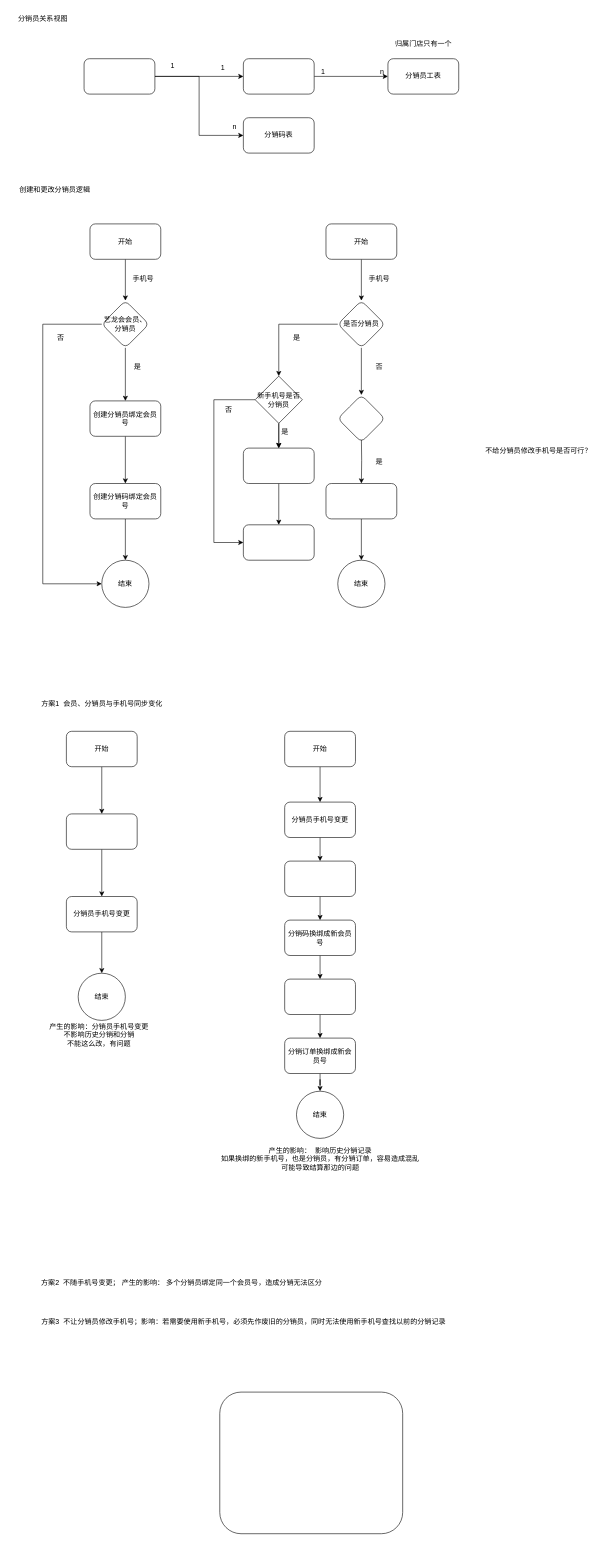
Some shapes in this 607 by 1544 pixel diagram are drawn without their labels. The shapes that lost their labels are listed below. From the top down, each one's centre as x and y in pixels, then its label:
At (x=119, y=76): "会员表".
At (x=278, y=76): "分销员表".
At (x=361, y=418): "是否会员".
At (x=278, y=466): "怎么处理？".
At (x=361, y=501): "创建分销员和分销码并绑定会员号".
At (x=278, y=542): "基本信息变更".
At (x=101, y=831): "会员手机号变更".
At (x=319, y=879): "分销员换绑新会员号".
At (x=319, y=997): "工号表换绑为新会员号".
At (x=311, y=1463): "m1 158 -> 158 ->m1 m1手机号改了 m1 159 -> 159 创建新分销员账户 -> m1".
